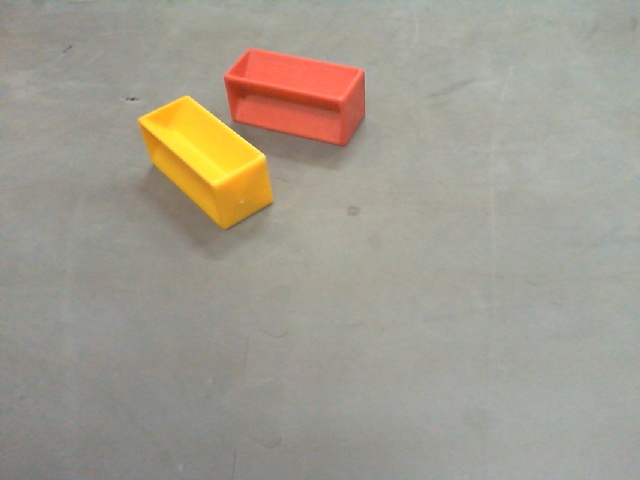RedSample: (223, 45, 371, 149)
YellowSample: (135, 93, 275, 233)
